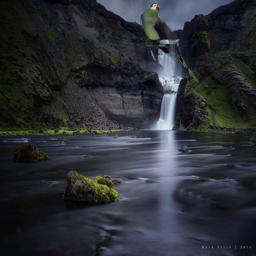Cuckoo: (140, 3, 202, 83)
